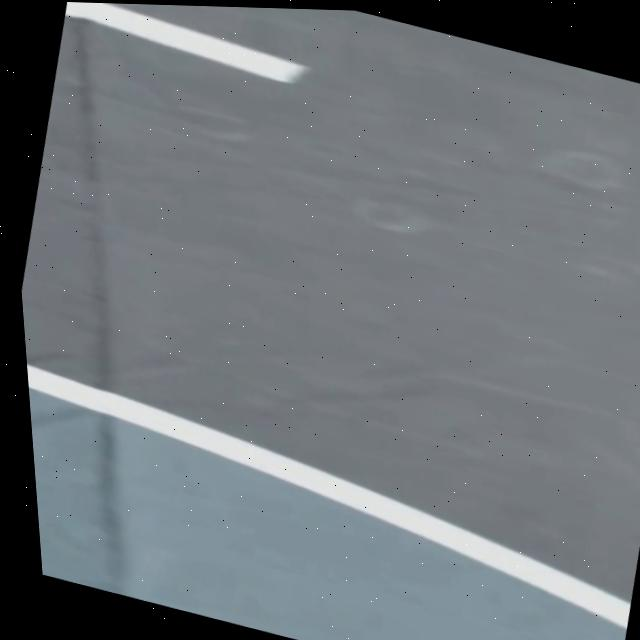center: (63, 2, 303, 83)
left: (27, 365, 630, 630)
